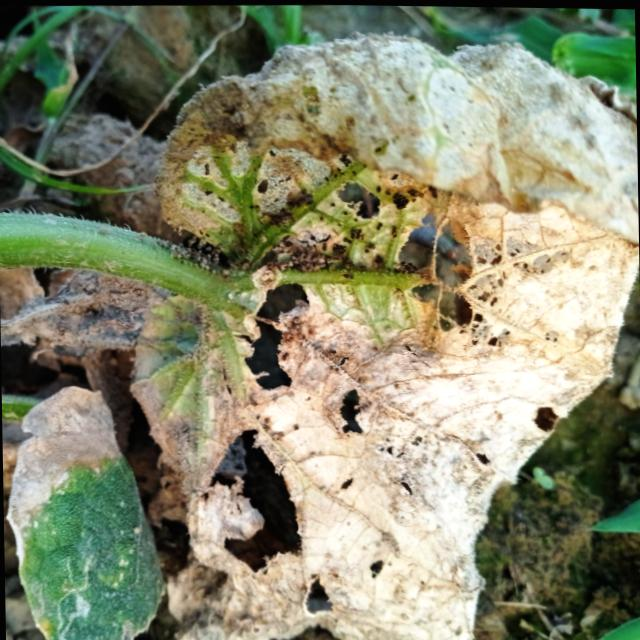Anthracnose: (192, 420, 307, 581), (390, 202, 486, 337), (234, 280, 310, 397), (330, 175, 384, 222), (334, 383, 367, 439)
